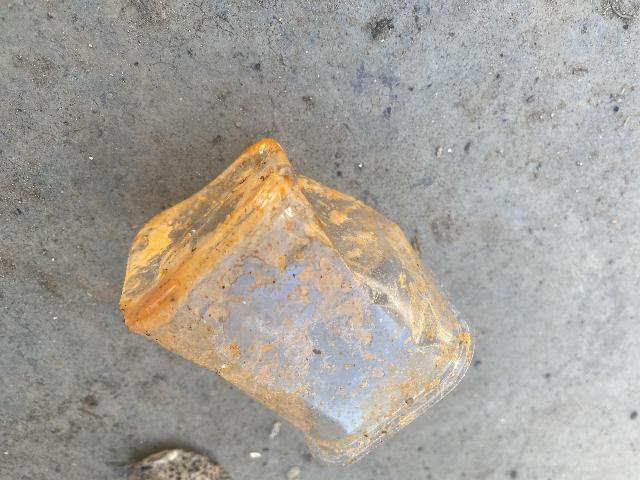Plastik: (116, 144, 481, 454)
